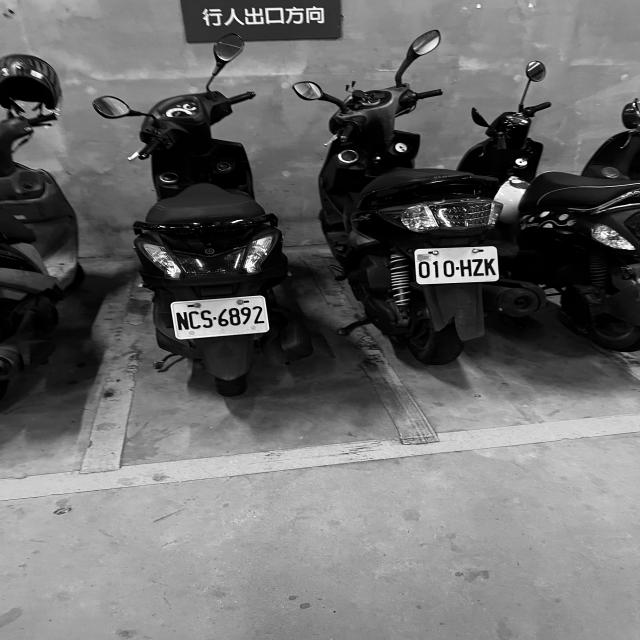-: (212, 316, 218, 320), (455, 266, 460, 270)
0: (418, 260, 431, 278), (443, 260, 454, 278)
1: (433, 260, 439, 278)
2: (252, 305, 265, 325)
6: (218, 308, 231, 327)
8: (228, 307, 241, 326)
9: (240, 306, 252, 325)
C: (188, 309, 201, 330)
H: (460, 258, 473, 277)
K: (483, 258, 497, 276)
N: (175, 311, 190, 331)
S: (201, 309, 213, 328)
Z: (472, 258, 485, 277)
plate: (172, 298, 268, 337), (417, 249, 500, 285)
